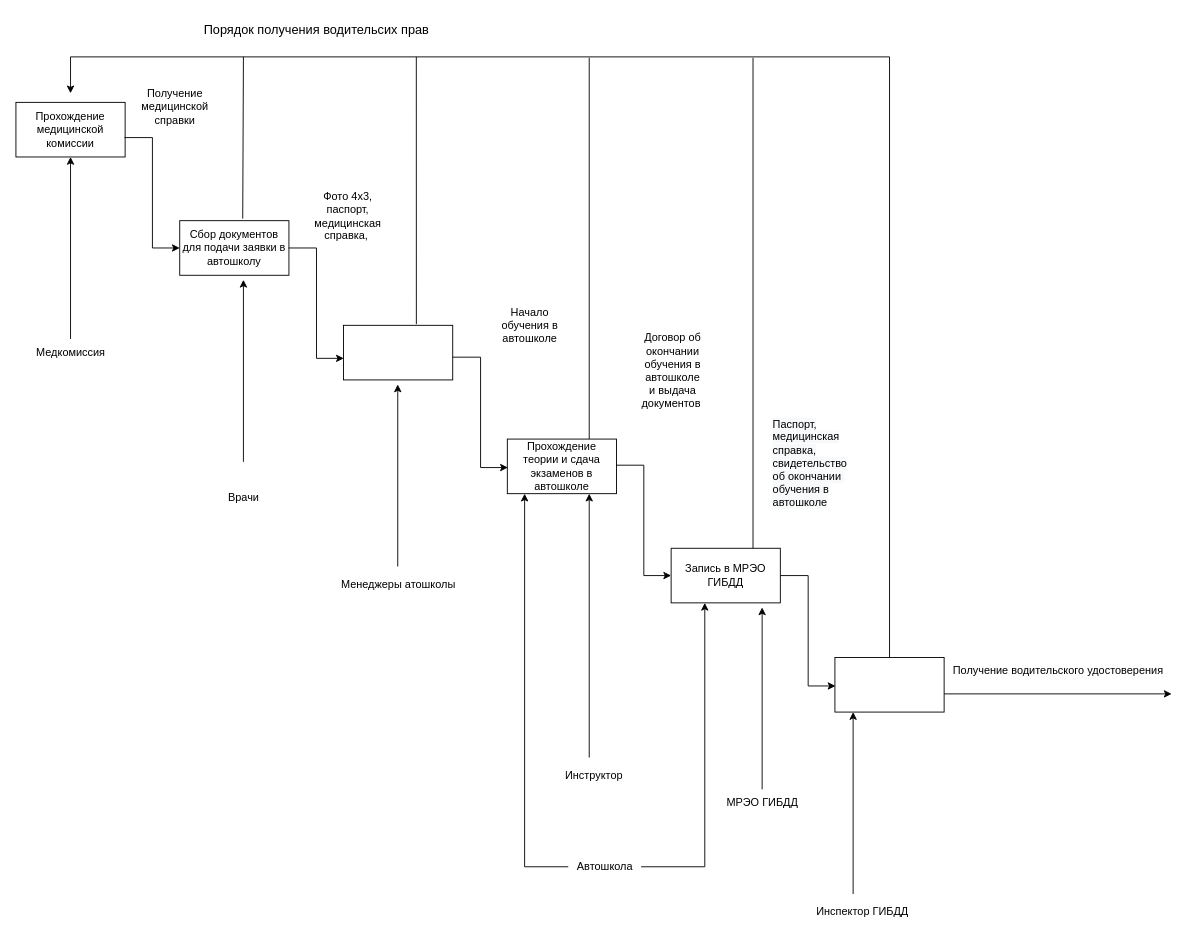
The diagram is 1195 pixels wide and 941 high, and some of its shapes have lost their labels. Here are the shapes that lost their labels. From the top down, the box of each, then its label:
(343, 324, 453, 380): Запись в автошколу
(834, 657, 944, 712): Сдача теоретического и практического экзаменов в МРЭО
